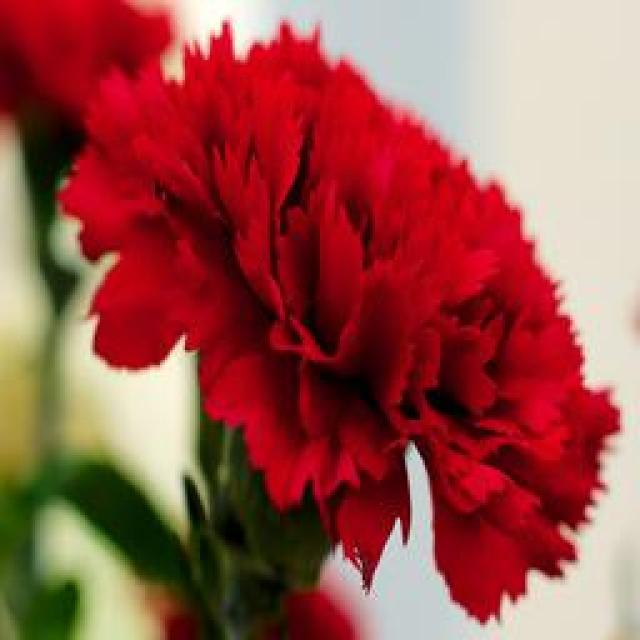carnation: (56, 17, 640, 610)
